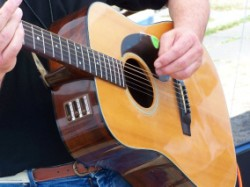guitar: (1, 1, 237, 185)
